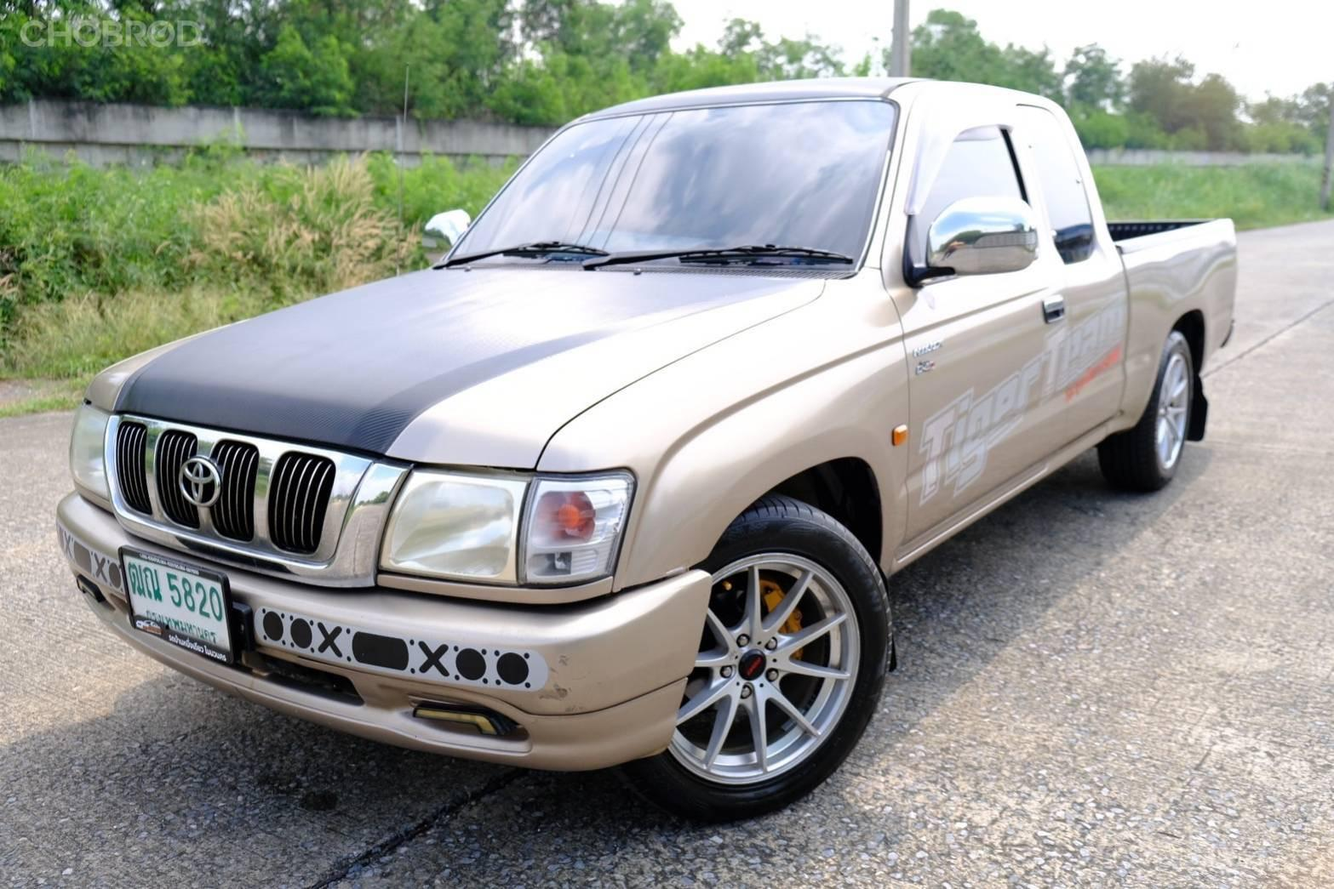license-plate: (99, 537, 247, 681)
